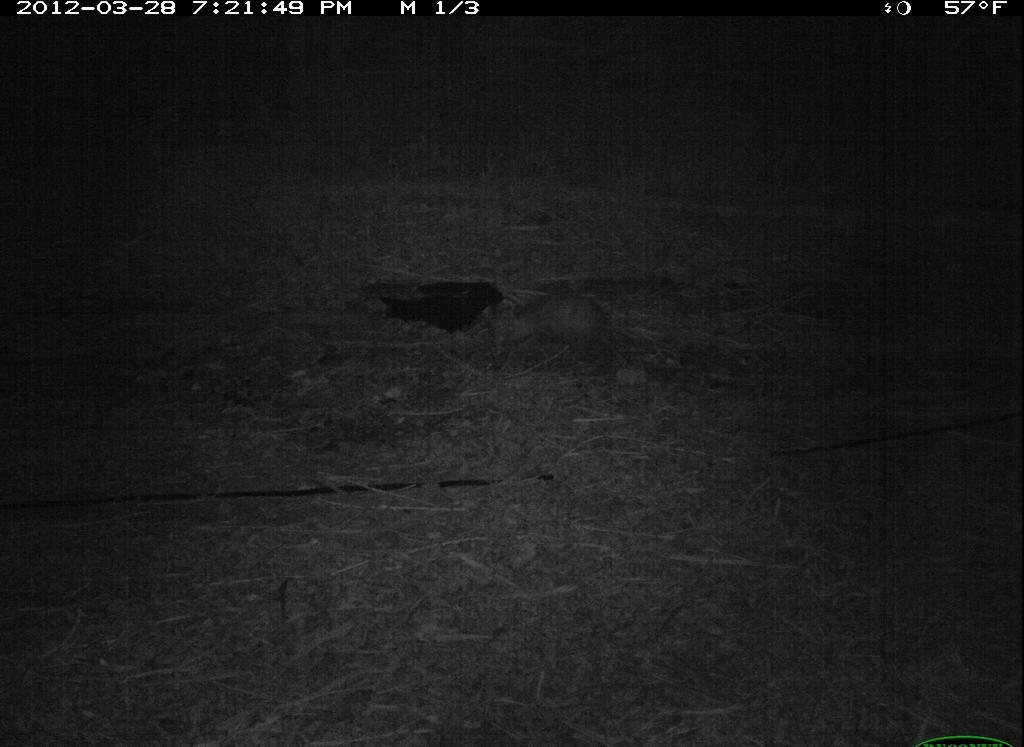opossum: (474, 290, 643, 376)
